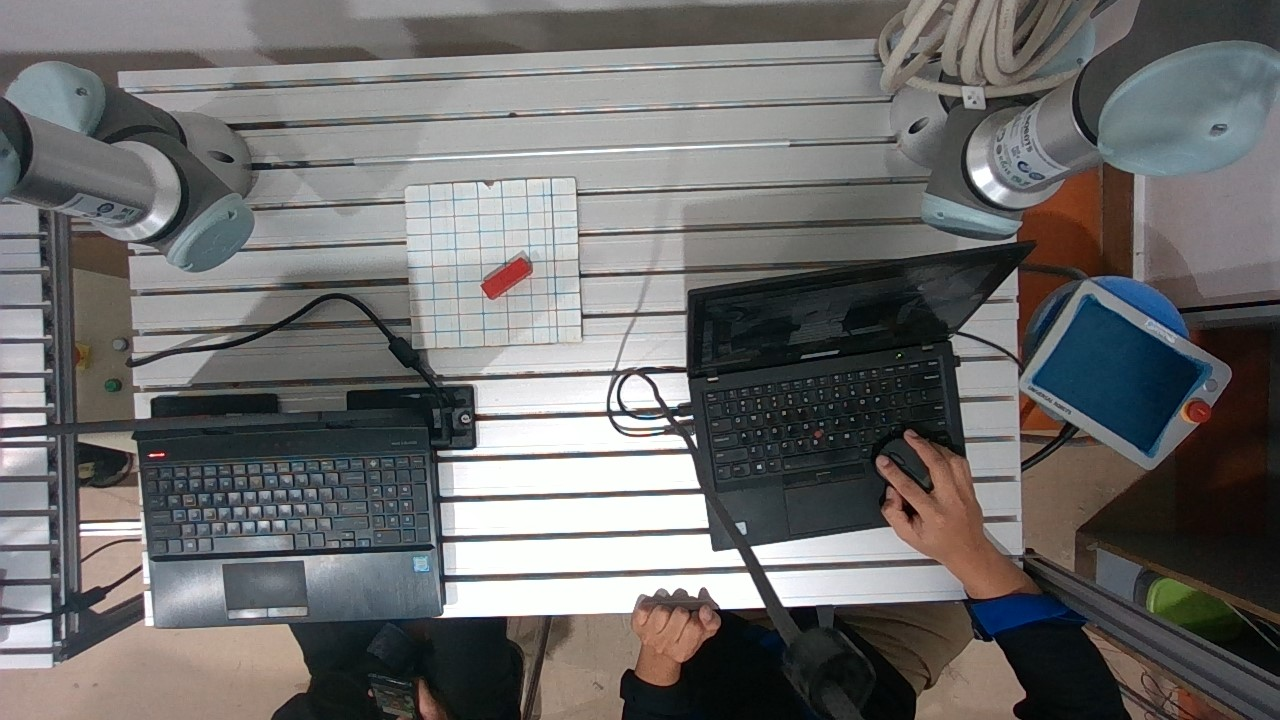box: (473, 243, 538, 308)
